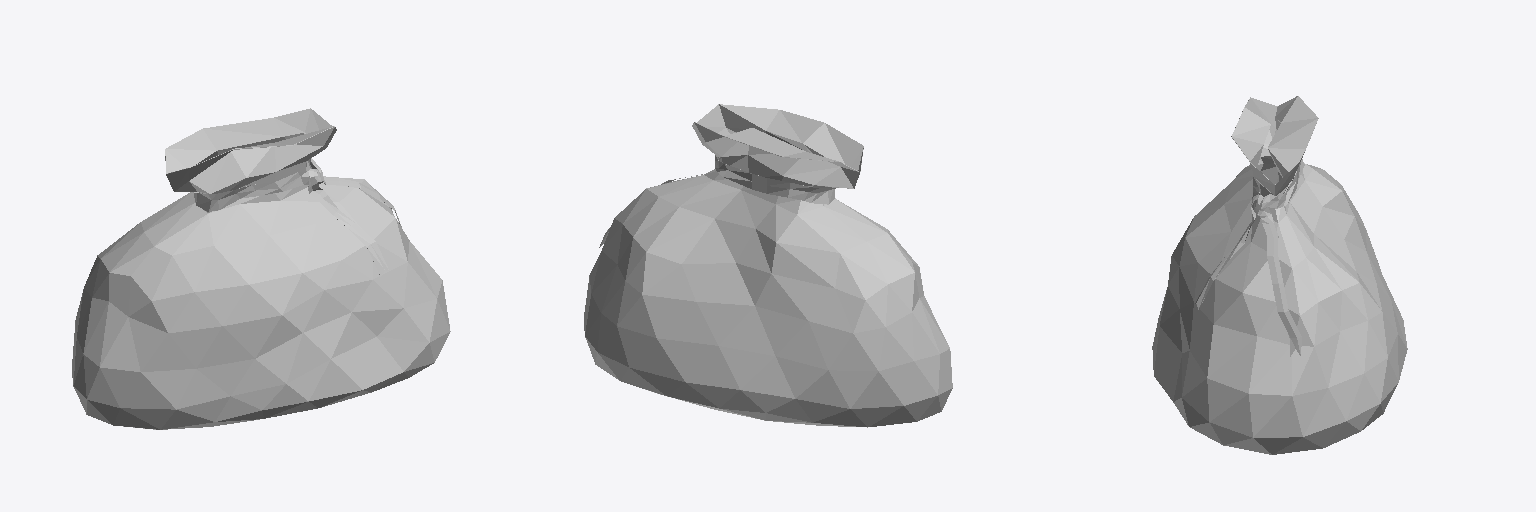
The model's file is coin_purse_closed.obj.
The picture shows the model from 3 angles: view 1: azimuth 30°, elevation 25°; view 2: azimuth 150°, elevation 25°; view 3: azimuth 270°, elevation 25°; orthographic projection.
Visible parts, largest first — view 1: coin_purse_closed; view 2: coin_purse_closed; view 3: coin_purse_closed.
Boxes of the visible parts, <box> form: coin_purse_closed: <box>72,108,450,429</box>; coin_purse_closed: <box>584,104,952,427</box>; coin_purse_closed: <box>1152,96,1407,454</box>.
Size of the model in its own units: 1.83 by 1.28 by 1.14.